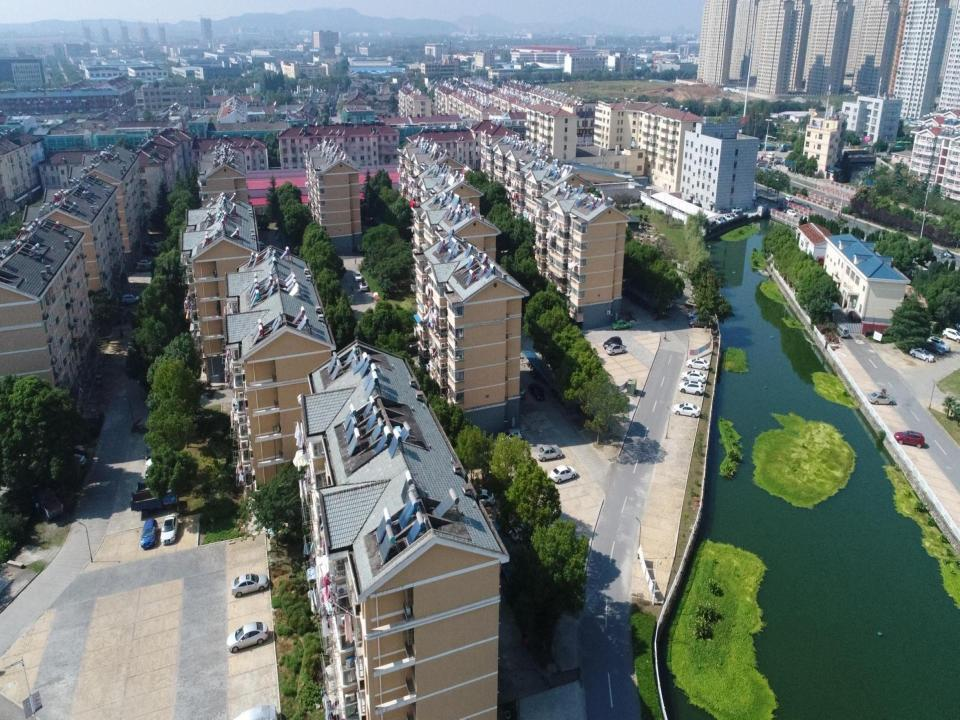car: (226, 621, 269, 653), (231, 573, 269, 598), (233, 703, 278, 719), (893, 430, 925, 449), (160, 514, 178, 544), (140, 519, 158, 548), (549, 465, 576, 483), (511, 522, 533, 543), (497, 427, 522, 445), (471, 489, 496, 507), (535, 445, 563, 461), (672, 403, 701, 418), (908, 346, 935, 362), (928, 334, 950, 352), (678, 381, 703, 396), (680, 370, 706, 384), (685, 357, 710, 371), (866, 393, 896, 404), (942, 326, 960, 344), (528, 382, 546, 400), (922, 341, 945, 355), (66, 453, 87, 467), (611, 318, 632, 330), (120, 293, 141, 305), (603, 336, 622, 349), (689, 316, 709, 328), (606, 343, 626, 355), (68, 443, 86, 456), (687, 310, 704, 322), (142, 239, 161, 249), (513, 385, 526, 399), (937, 249, 955, 259), (141, 247, 159, 257), (135, 263, 152, 273), (95, 372, 104, 389), (353, 270, 363, 283), (138, 258, 154, 266), (712, 216, 722, 226), (800, 202, 811, 211), (359, 281, 368, 292), (689, 202, 702, 209), (786, 209, 796, 218), (718, 214, 727, 224), (723, 212, 733, 221), (729, 211, 740, 219), (682, 198, 693, 206), (730, 206, 742, 213), (784, 194, 793, 203), (777, 206, 787, 213)
truck: (131, 487, 178, 516), (31, 480, 64, 520), (763, 164, 778, 176), (779, 142, 794, 152)
van: (836, 324, 849, 339), (765, 152, 775, 160), (756, 161, 765, 168)
